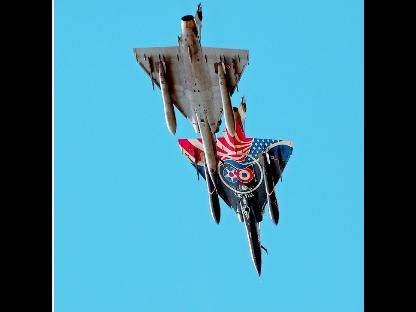Mirage2000: (132, 1, 248, 192), (178, 92, 292, 279)
